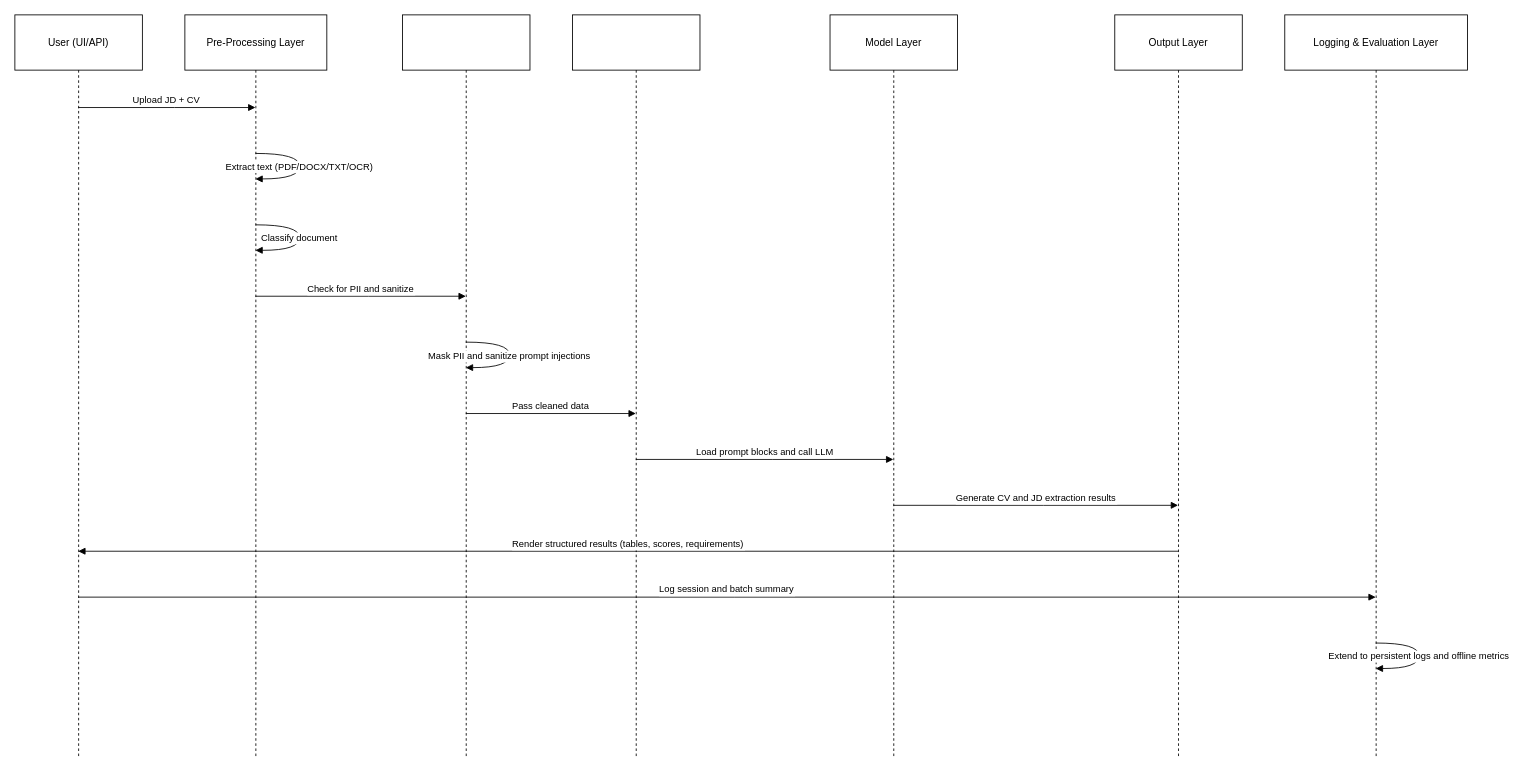
Some shapes in this 1526 by 773 pixel diagram are drawn without their labels. Here are the shapes that lost their labels. From the top down, the box of each, then its label:
(402, 14, 530, 758): Safety Layer
(572, 14, 700, 758): Prompt Layer
